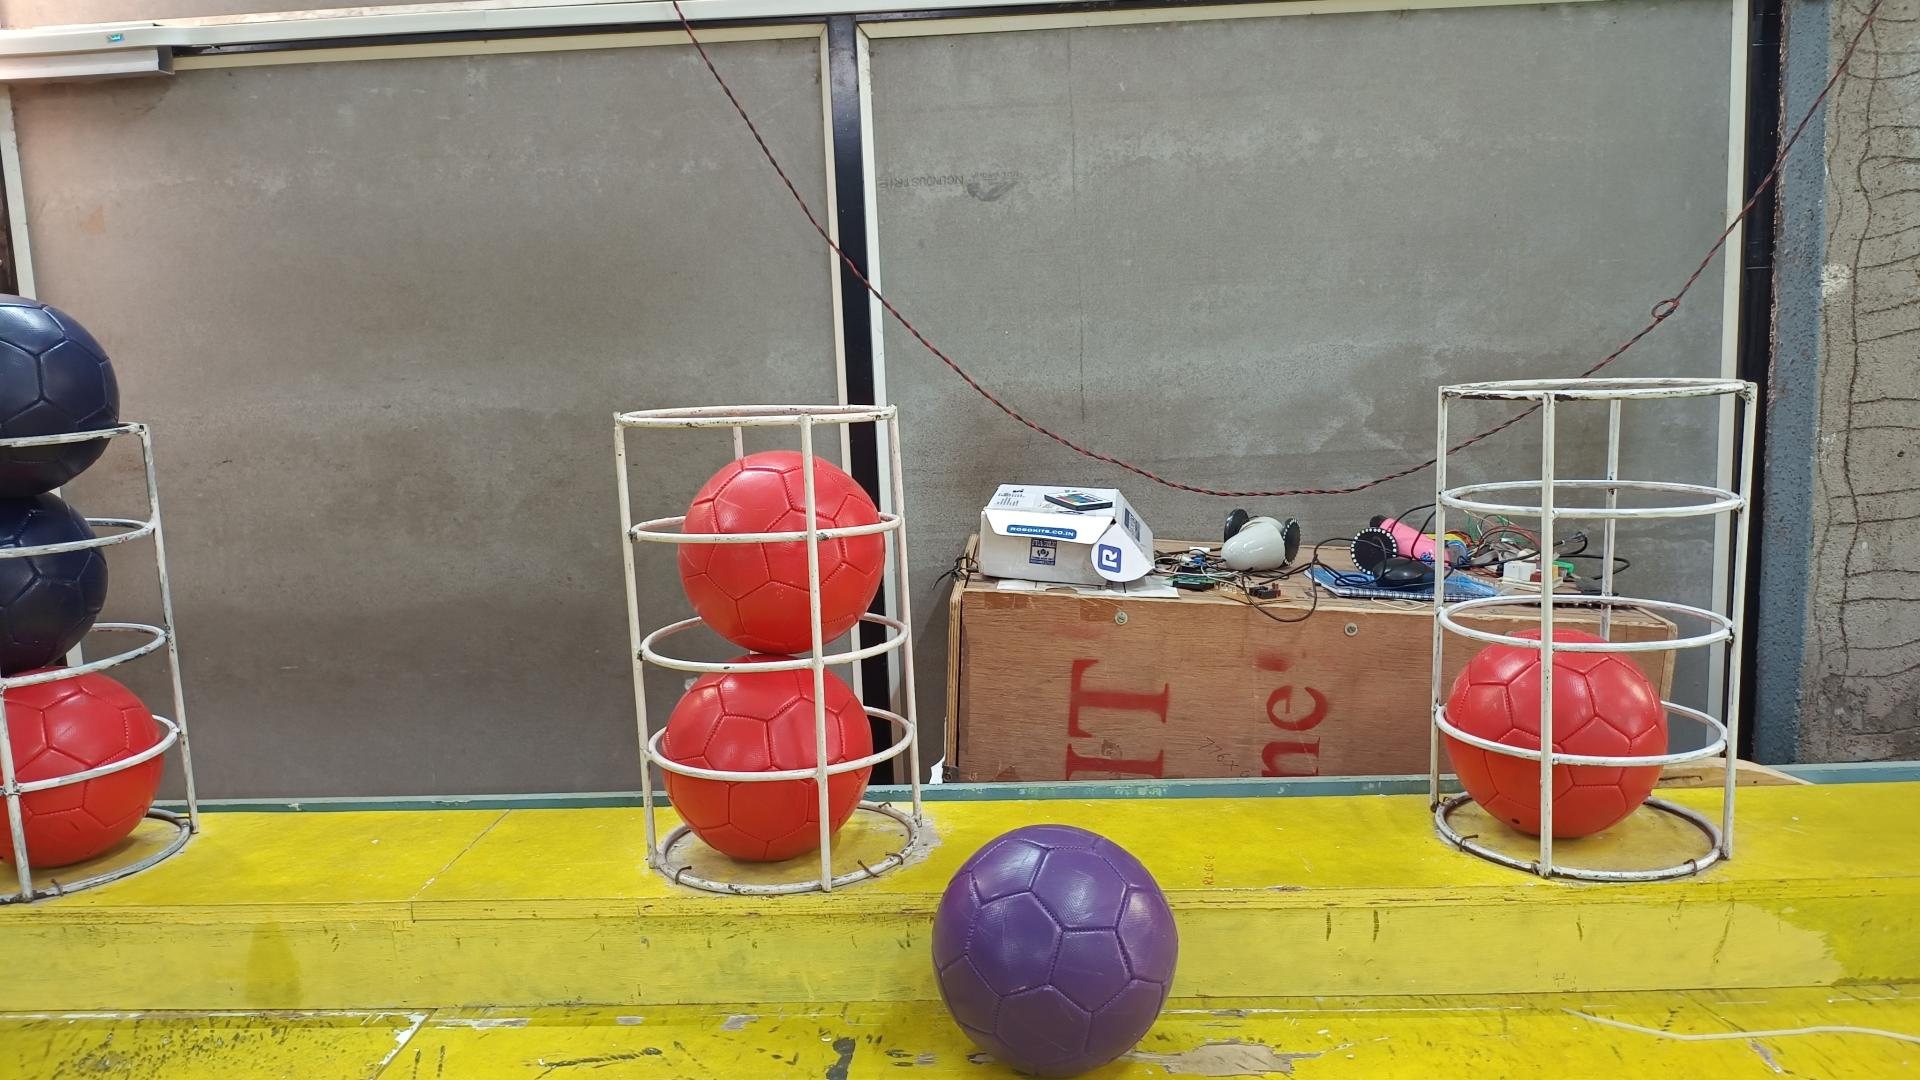dhoka: (0, 301, 105, 502), (0, 498, 94, 679)
laale: (1441, 626, 1667, 840), (659, 654, 874, 864), (676, 452, 884, 658), (0, 679, 154, 877)
